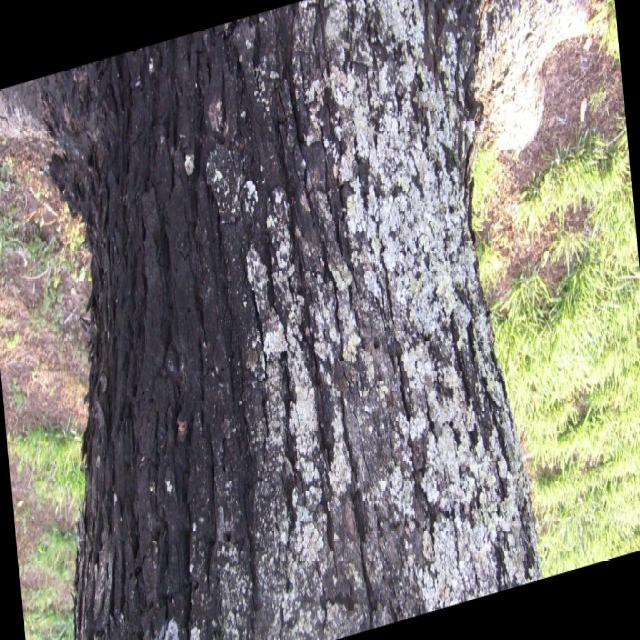Sooty Mold: (34, 0, 543, 637)
